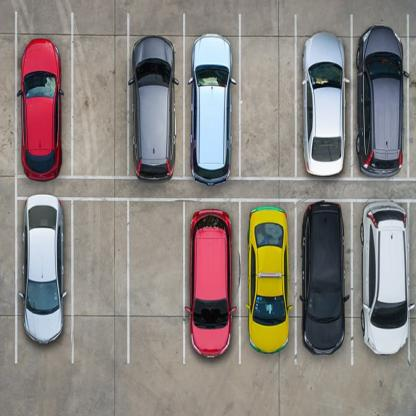Car: (354, 21, 410, 178), (298, 205, 349, 352), (299, 24, 347, 176), (365, 208, 413, 359), (16, 196, 70, 330), (17, 31, 66, 172), (128, 31, 175, 174), (248, 203, 293, 346), (187, 205, 230, 353), (190, 39, 234, 180)
Empty: (242, 26, 292, 175), (74, 205, 127, 344), (132, 205, 181, 354), (77, 35, 119, 169)
